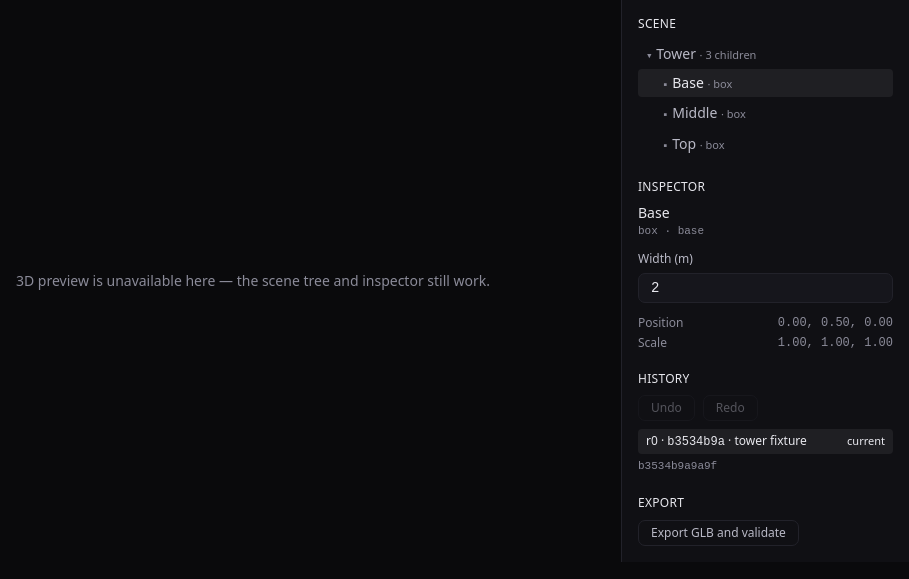
Scenario: ModelPane › selects a node from the tree and shows it in the inspector
Step 1. Click the button with aria-label "Select Middle" → point(766, 114), box x1=638 y1=99 x2=893 y2=128
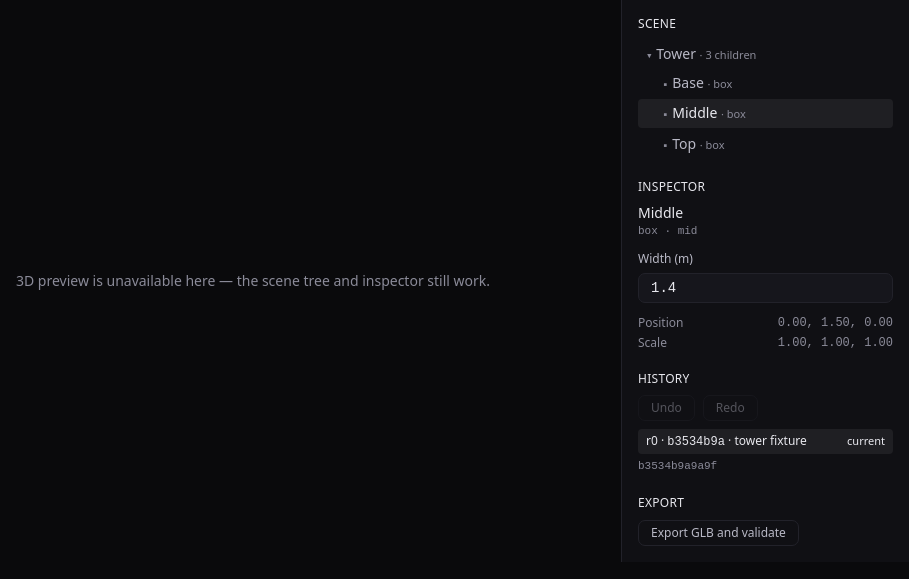
Check: the field labelled "Width (m)" holds "1.4", box x1=638 y1=273 x2=893 y2=303
